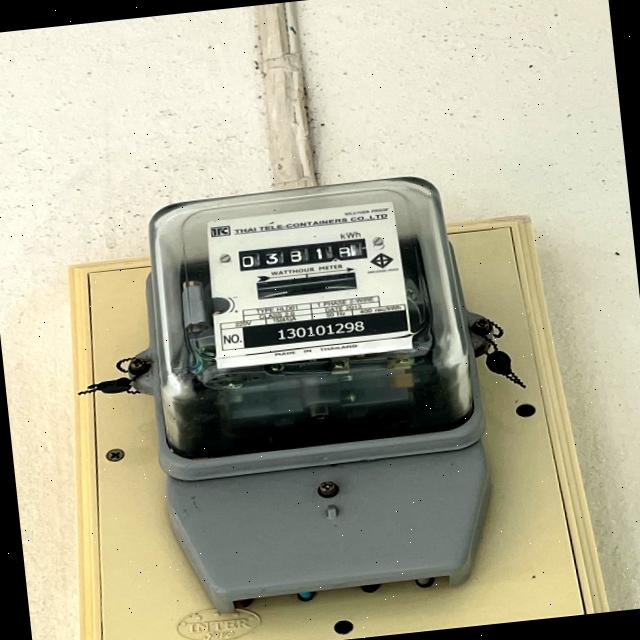digit_area: (233, 239, 373, 274)
